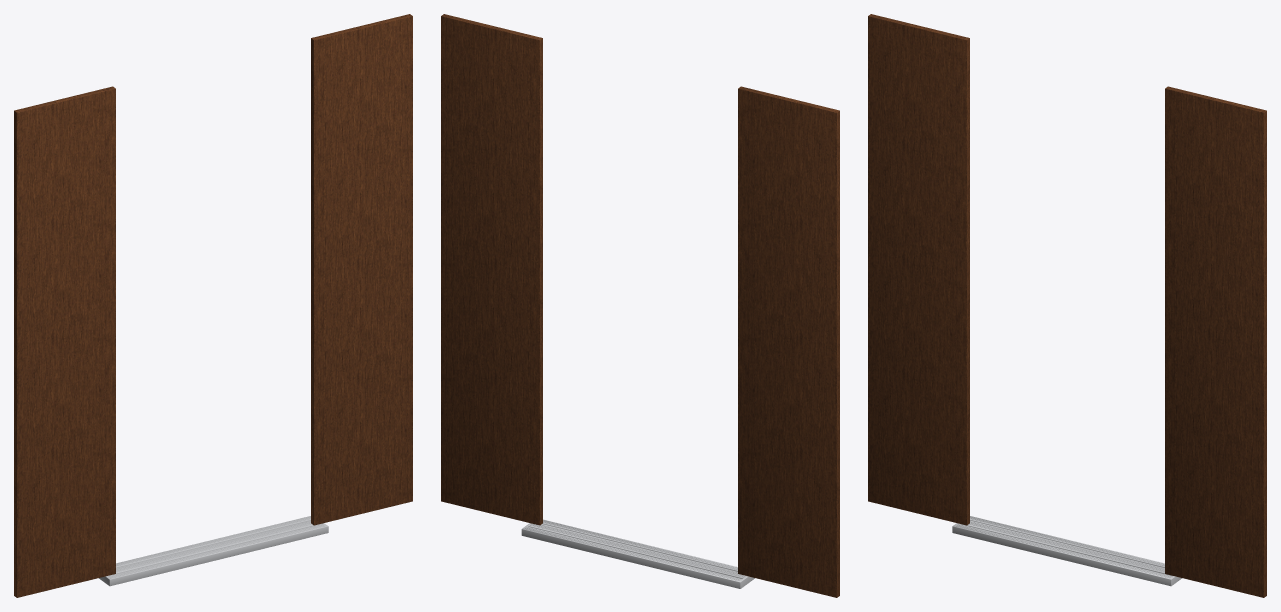
File: cabin_door_TM030.glb
The picture shows the model from 3 angles, left to right: view 1: azimuth 30°, elevation 25°; view 2: azimuth 150°, elevation 25°; view 3: azimuth 330°, elevation 25°; orthographic projection.
Parts seen in each view (by area): view 1: Car_Door_L, Car_Door_R, Door_Sill; view 2: Car_Door_L, Car_Door_R, Door_Sill; view 3: Car_Door_L, Car_Door_R, Door_Sill.
Boxes of the visible parts, x1=… form: Car_Door_L: x1=14, y1=86, x2=115, y2=597; Car_Door_R: x1=311, y1=14, x2=412, y2=525; Door_Sill: x1=98, y1=516, x2=328, y2=586; Car_Door_L: x1=738, y1=86, x2=839, y2=597; Car_Door_R: x1=441, y1=14, x2=542, y2=525; Door_Sill: x1=521, y1=519, x2=754, y2=588; Car_Door_L: x1=868, y1=14, x2=969, y2=525; Car_Door_R: x1=1165, y1=86, x2=1266, y2=597; Door_Sill: x1=952, y1=516, x2=1182, y2=586.
Bounding box in the file's own units: 1.81 × 2.15 × 0.12.
Materials: 3 (1 with a texture image).
